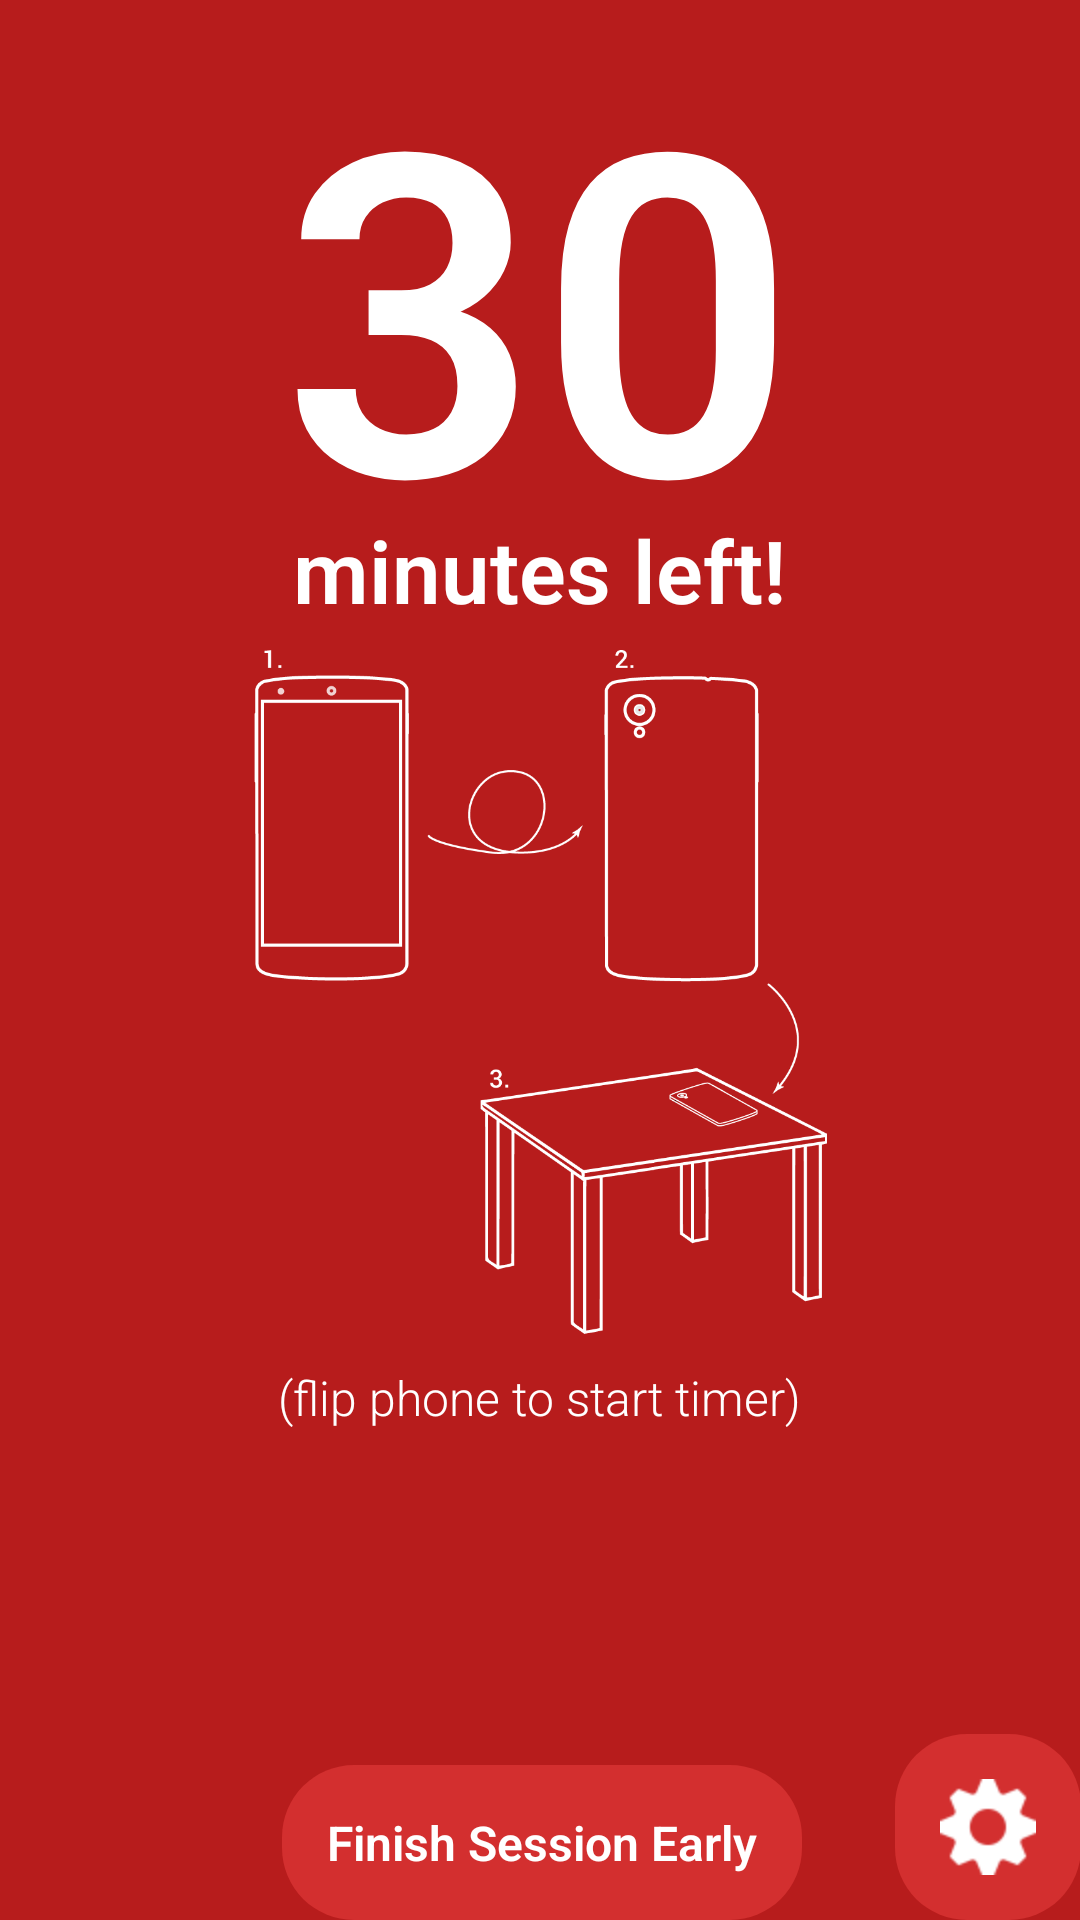

Where icons sit on this 1080 x 1920 app screen, as (x1, y1, x2, y2):
settings: (895, 1734, 1080, 1920)
